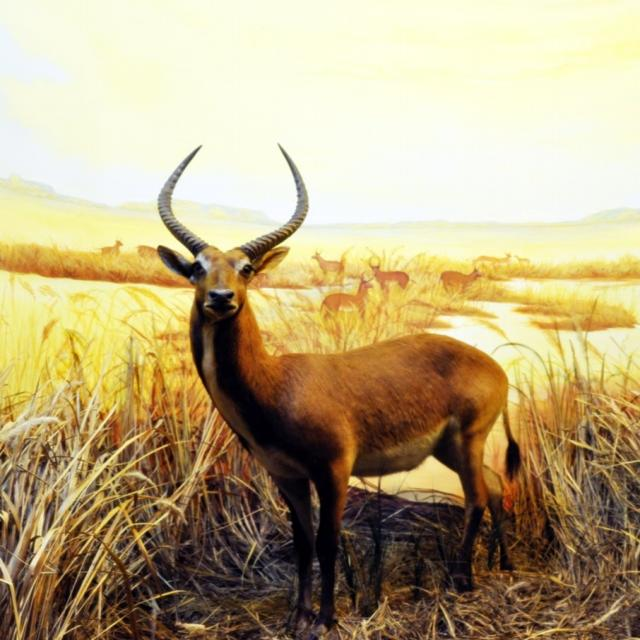Deer: (156, 142, 520, 640)
